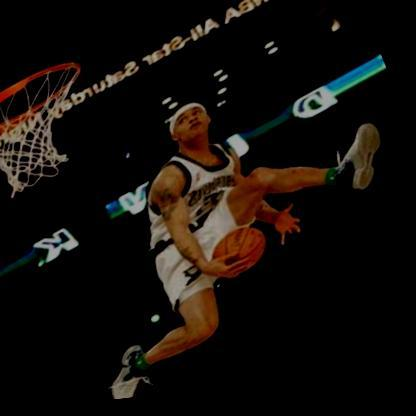basketball: (211, 221, 280, 290)
rim: (0, 45, 121, 210)
